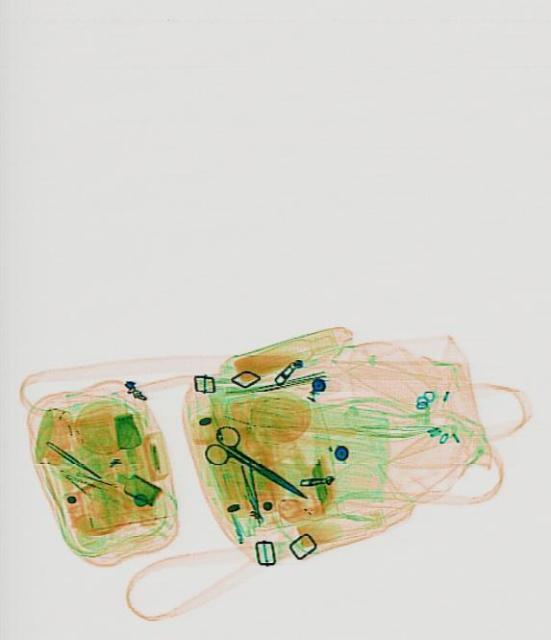Scissors: (201, 418, 316, 516)
